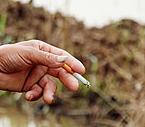smoke: (62, 63, 91, 87)
